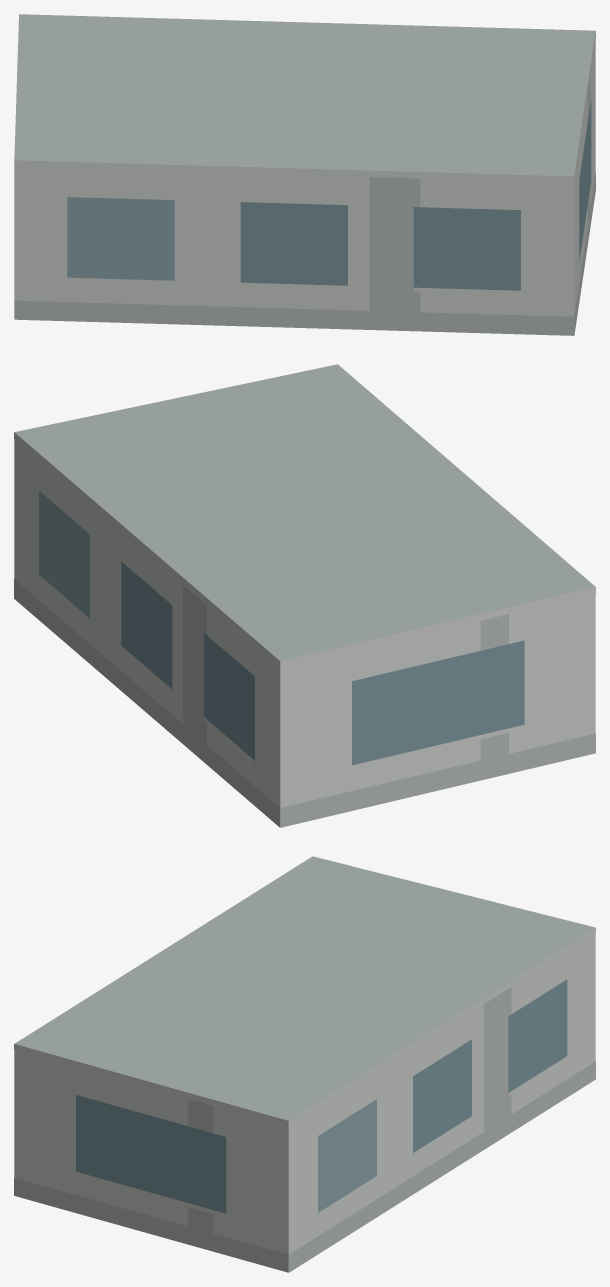
File: residential-90e3e785-12ad-4e1e-b627-7c042b626653.glb
3 views of the same model, one above another, from view 1: azimuth 30°, elevation 25°; view 2: azimuth 150°, elevation 25°; view 3: azimuth 270°, elevation 25° (orthographic). The views are drawn at different scales.
Parts seen in each view (by area): view 1: residential-90e3e785-12ad-4e1e-b627-7c042b626653.tmp; view 2: residential-90e3e785-12ad-4e1e-b627-7c042b626653.tmp; view 3: residential-90e3e785-12ad-4e1e-b627-7c042b626653.tmp.
Part boxes in pixels (x1=…): residential-90e3e785-12ad-4e1e-b627-7c042b626653.tmp: x1=14, y1=14, x2=595, y2=335; residential-90e3e785-12ad-4e1e-b627-7c042b626653.tmp: x1=14, y1=364, x2=595, y2=827; residential-90e3e785-12ad-4e1e-b627-7c042b626653.tmp: x1=14, y1=856, x2=595, y2=1272.
Size of the model in its own units: 11.41 by 3.05 by 10.6.
